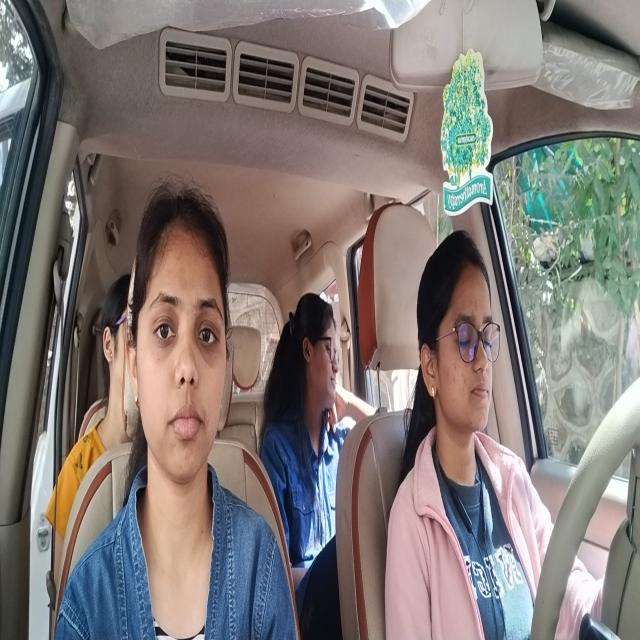drowsy: (419, 245, 503, 439)
person: (136, 203, 234, 479), (294, 291, 345, 423), (99, 284, 134, 426)
